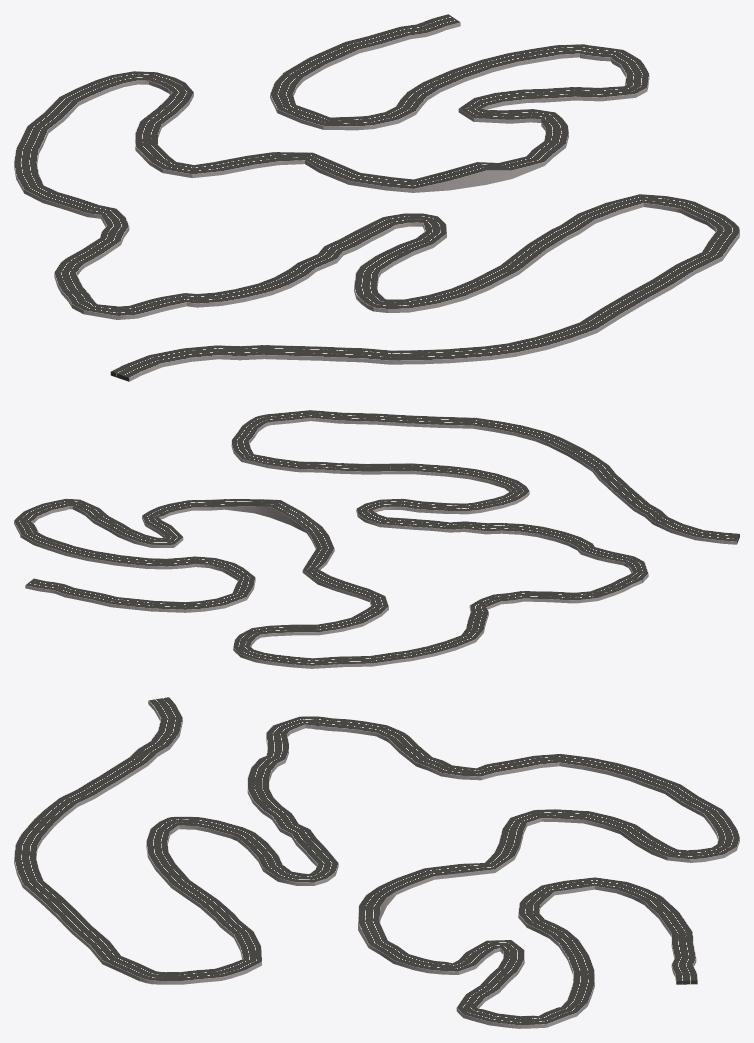
The picture shows the model from 3 angles, top to bottom: view 1: azimuth 30°, elevation 25°; view 2: azimuth 150°, elevation 25°; view 3: azimuth 270°, elevation 25°; orthographic projection. The views are drawn at different scales.
Visible parts, largest first — view 1: map6, map5, map1, map3, map4, map2; view 2: map6, map5, map1, map3, map4, map2; view 3: map6, map5, map1, map4, map3, map2.
Boxes of the visible parts, x1,y1,x2,y2 form: map6: [270, 14, 649, 130]; map5: [135, 83, 568, 192]; map1: [110, 230, 739, 381]; map3: [72, 213, 446, 319]; map4: [14, 71, 184, 307]; map2: [388, 194, 739, 312]; map6: [14, 498, 255, 612]; map5: [142, 499, 388, 640]; map1: [265, 410, 739, 544]; map3: [356, 486, 648, 582]; map4: [233, 575, 642, 668]; map2: [231, 414, 525, 491]; map6: [456, 877, 697, 1028]; map5: [358, 809, 690, 974]; map1: [14, 697, 182, 981]; map4: [314, 716, 739, 862]; map3: [159, 716, 338, 885]; map2: [140, 821, 261, 984].
Bounding box in the file's own units: 869 × 17.67 × 813.
